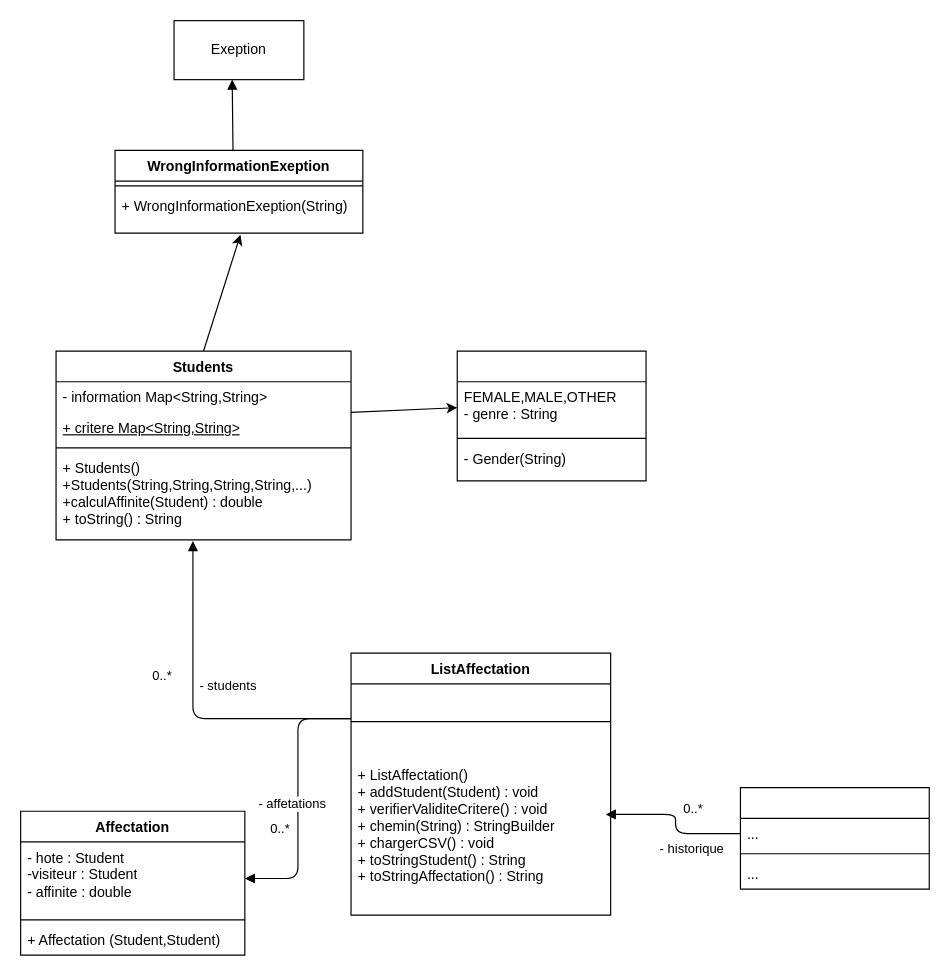
The diagram is 950 pixels wide and 979 high, and some of its shapes have lost their labels. The shapes that lost their labels are listed below. From the top down, each one's box as (x1, y1, x2, y2) in pixels, then its label:
(456, 350, 646, 481): enum gender
(739, 786, 929, 889): HistoriqueAffectation
